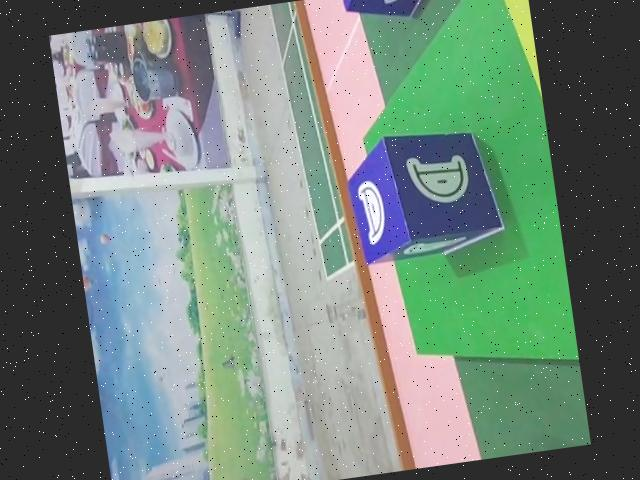R2 Real Blue: (341, 121, 509, 266), (335, 0, 461, 28)
